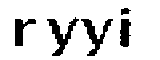i: (116, 6, 136, 48)
r: (11, 15, 36, 52)
y: (79, 15, 113, 59), (45, 17, 78, 60)
